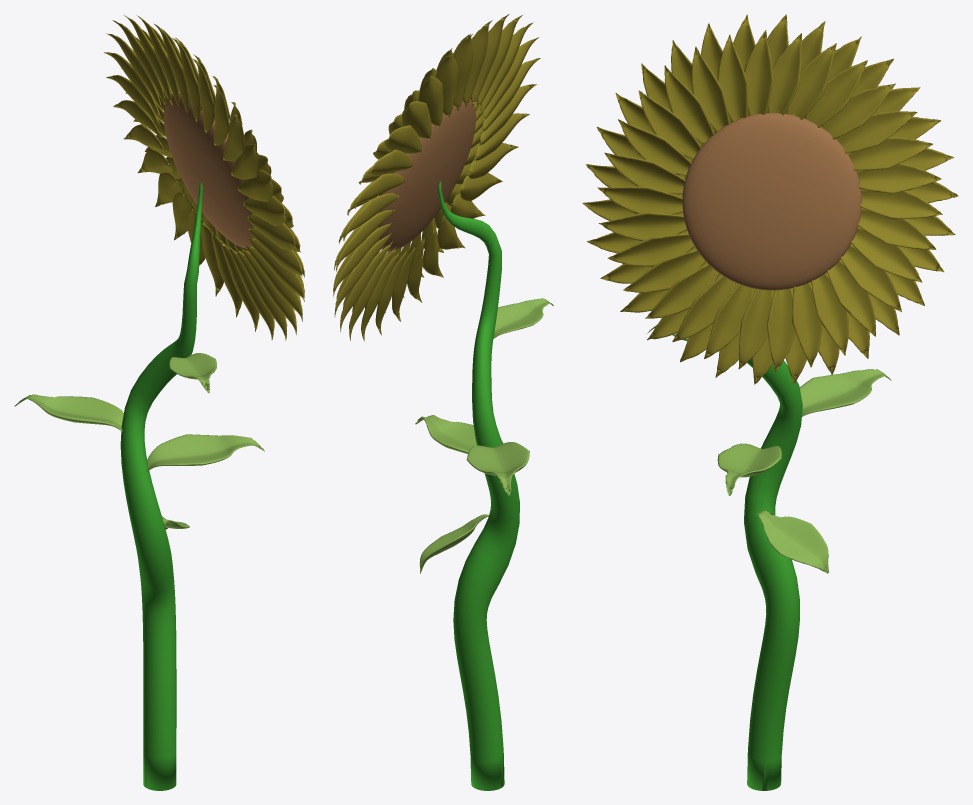
Rendered from 1sunflower.glb.
3 views of the same model, side by side, from view 1: azimuth 30°, elevation 25°; view 2: azimuth 150°, elevation 25°; view 3: azimuth 270°, elevation 25° (orthographic). The views are drawn at different scales.
Visible parts, largest first — view 1: BezierCurve-petalo, BezierCurve-tallol, BezierCurve-Mat, BezierCurve-hoja; view 2: BezierCurve-petalo, BezierCurve-tallol, BezierCurve-Mat, BezierCurve-hoja; view 3: BezierCurve-petalo, BezierCurve-Mat, BezierCurve-tallol, BezierCurve-hoja.
Boxes of the visible parts, left/top/right/bottom form: BezierCurve-petalo: left=104, top=15, right=304, bottom=340; BezierCurve-tallol: left=120, top=181, right=202, bottom=790; BezierCurve-Mat: left=163, top=92, right=254, bottom=248; BezierCurve-hoja: left=14, top=353, right=264, bottom=529; BezierCurve-petalo: left=333, top=14, right=540, bottom=341; BezierCurve-tallol: left=438, top=181, right=519, bottom=790; BezierCurve-Mat: left=378, top=98, right=475, bottom=251; BezierCurve-hoja: left=415, top=298, right=553, bottom=573; BezierCurve-petalo: left=582, top=14, right=958, bottom=384; BezierCurve-Mat: left=682, top=113, right=861, bottom=290; BezierCurve-tallol: left=744, top=358, right=802, bottom=790; BezierCurve-hoja: left=647, top=325, right=891, bottom=573.
Size of the model in its own units: 283 by 1111 by 492.
Materials: 4 (1 with a texture image).
